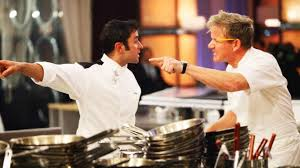Bad: (1, 8, 294, 120)
